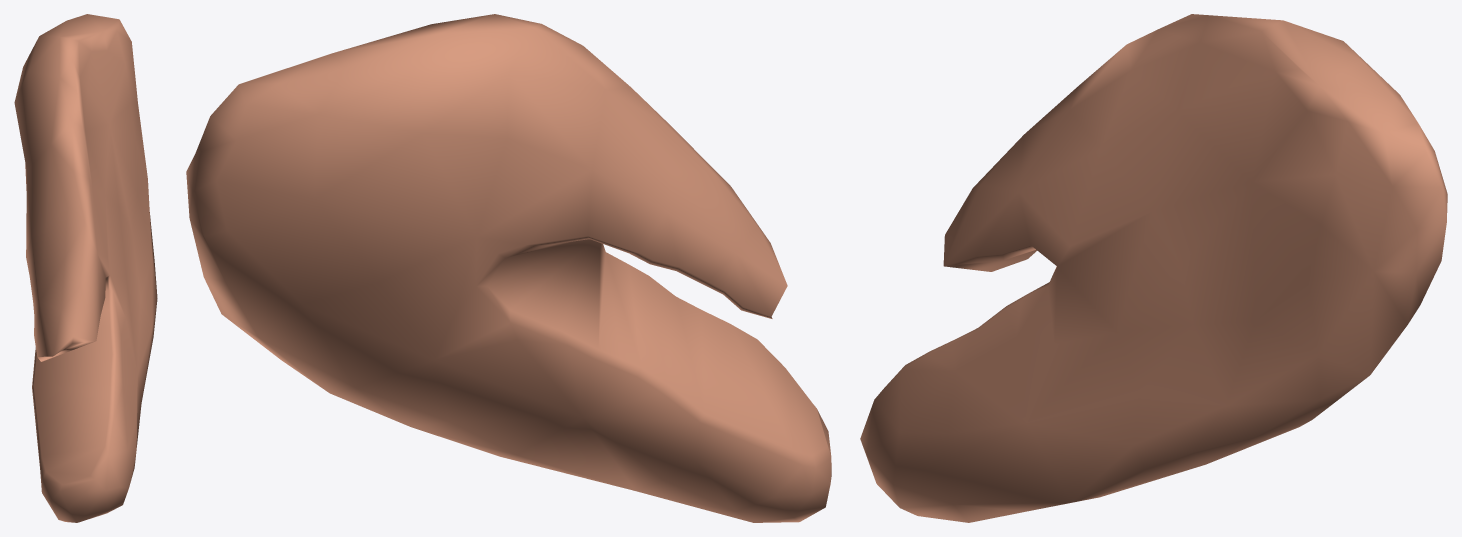
Rendered from submandibular-gland-l.glb.
The picture shows the model from 3 angles, left to right: view 1: azimuth 30°, elevation 25°; view 2: azimuth 150°, elevation 25°; view 3: azimuth 270°, elevation 25°; orthographic projection. The views are drawn at different scales.
Parts seen in each view (by area): view 1: Submandibular gland.l; view 2: Submandibular gland.l; view 3: Submandibular gland.l.
Boxes of the visible parts, x1,y1,x2,y2 form: Submandibular gland.l: [14, 14, 157, 522]; Submandibular gland.l: [186, 14, 831, 522]; Submandibular gland.l: [860, 14, 1447, 522].
Size of the model in its own units: 0.0157 by 0.0226 by 0.0217.
